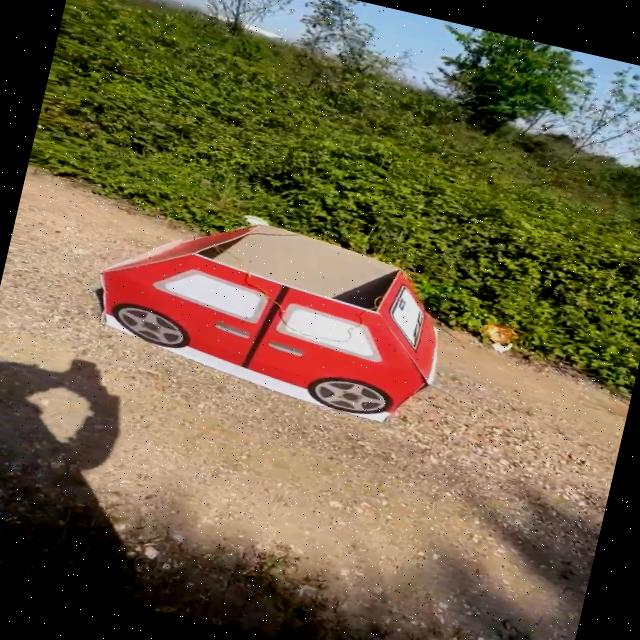red_car: (45, 179, 466, 440)
